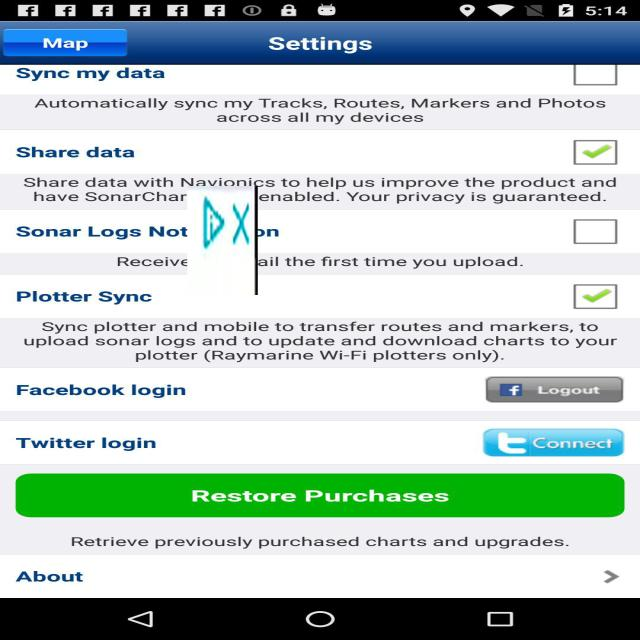sneaking: (187, 186, 258, 295)
